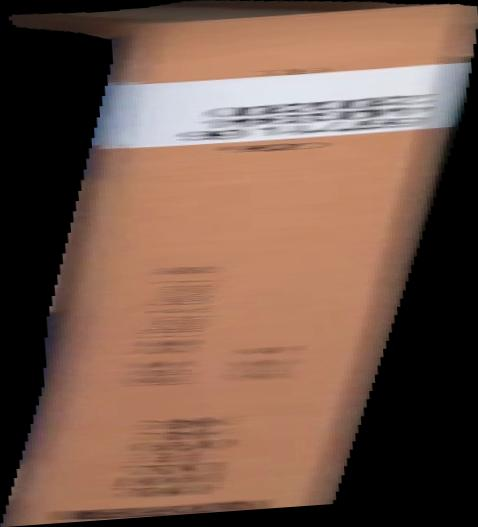reverse: (1, 1, 478, 527)
